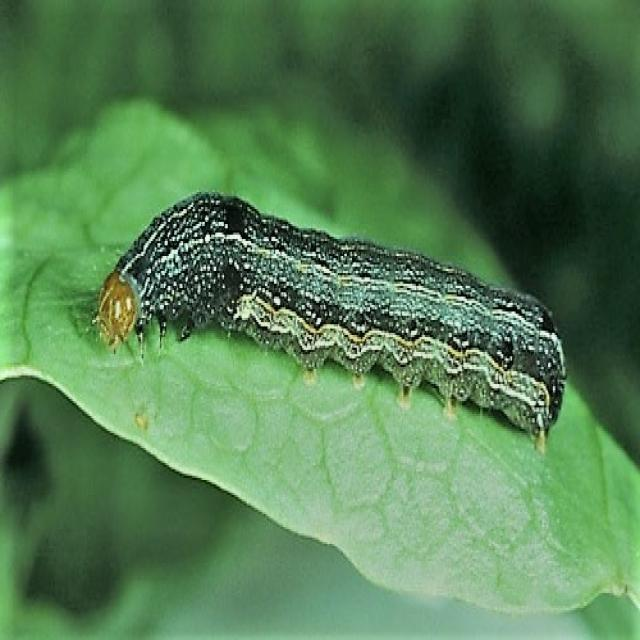armyworm: (90, 188, 567, 454)
